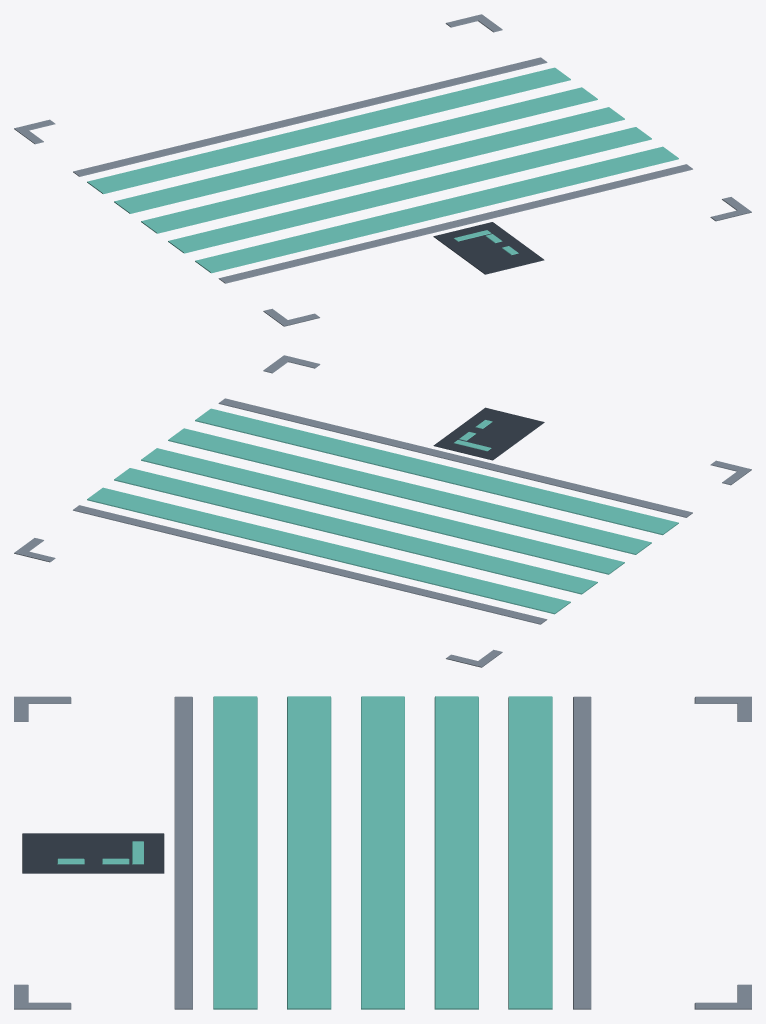
Rendered from crossing-and-pad-decal-0bab8c.glb.
3 views of the same model, one above another, from view 1: azimuth 30°, elevation 25°; view 2: azimuth 150°, elevation 25°; view 3: azimuth 270°, elevation 25° (orthographic). The views are drawn at different scales.
Visible parts, largest first — view 1: ground-marking; view 2: ground-marking; view 3: ground-marking.
Boxes of the visible parts, x1,y1,x2,y2 form: ground-marking: (14, 14, 751, 326); ground-marking: (14, 355, 751, 667); ground-marking: (14, 696, 751, 1009).
Size of the model in its own units: 8 by 0.016 by 8.
